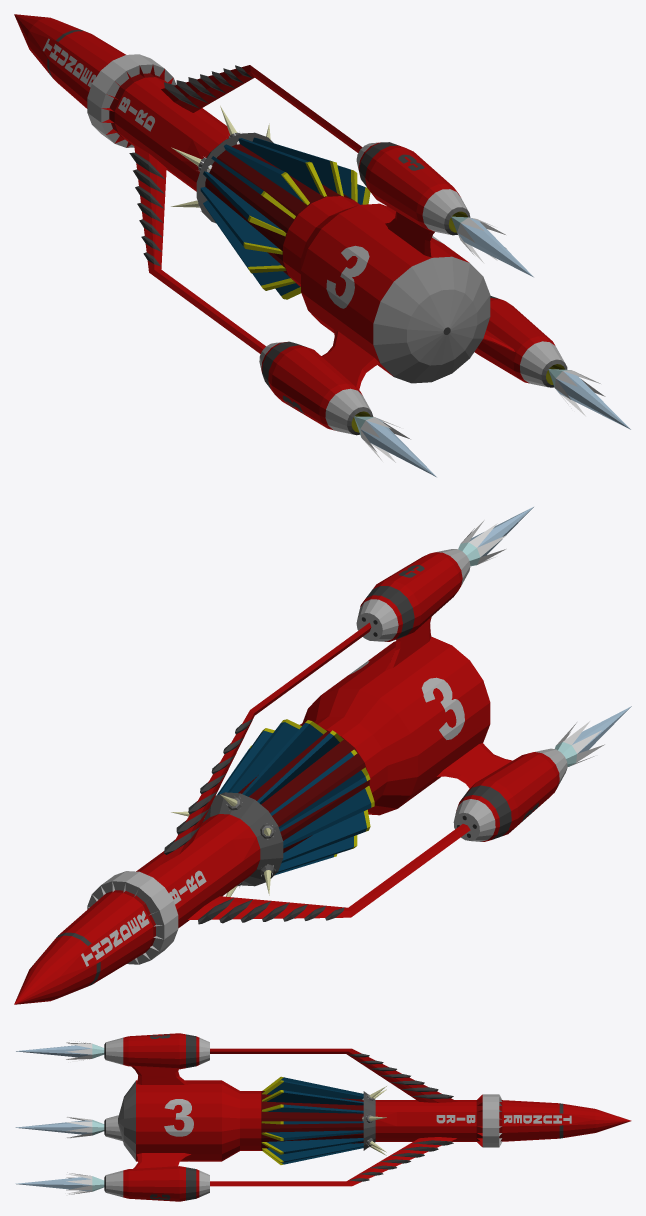
3 renders of one model, top to bottom at view 1: azimuth 30°, elevation 25°; view 2: azimuth 150°, elevation 25°; view 3: azimuth 270°, elevation 25°, orthographic. The views are drawn at different scales.
Visible parts, largest first — view 1: ShapeIndexedFaceSet_ShapeIndexedFaceSet.001, ShapeIndexedFaceSet.007_ShapeIndexedFaceSet.008, ShapeIndexedFaceSet.036_ShapeIndexedFaceSet.037, ShapeIndexedFaceSet.051_ShapeIndexedFaceSet.052, ShapeIndexedFaceSet.040_ShapeIndexedFaceSet.041, ShapeIndexedFaceSet.003_ShapeIndexedFaceSet.004, ShapeIndexedFaceSet.049_ShapeIndexedFaceSet.050, ShapeIndexedFaceSet.062_ShapeIndexedFaceSet.063, ShapeIndexedFaceSet.038_ShapeIndexedFaceSet.039, ShapeIndexedFaceSet.037_ShapeIndexedFaceSet.038, ShapeIndexedFaceSet.002_ShapeIndexedFaceSet.003, ShapeIndexedFaceSet.005_ShapeIndexedFaceSet.006 (+10 smaller); view 2: ShapeIndexedFaceSet_ShapeIndexedFaceSet.001, ShapeIndexedFaceSet.036_ShapeIndexedFaceSet.037, ShapeIndexedFaceSet.004_ShapeIndexedFaceSet.005, ShapeIndexedFaceSet.051_ShapeIndexedFaceSet.052, ShapeIndexedFaceSet.003_ShapeIndexedFaceSet.004, ShapeIndexedFaceSet.040_ShapeIndexedFaceSet.041, ShapeIndexedFaceSet.049_ShapeIndexedFaceSet.050, ShapeIndexedFaceSet.006_ShapeIndexedFaceSet.007, ShapeIndexedFaceSet.038_ShapeIndexedFaceSet.039, ShapeIndexedFaceSet.002_ShapeIndexedFaceSet.003, ShapeIndexedFaceSet.042_ShapeIndexedFaceSet.043, ShapeIndexedFaceSet.053_ShapeIndexedFaceSet.054 (+6 smaller); view 3: ShapeIndexedFaceSet_ShapeIndexedFaceSet.001, ShapeIndexedFaceSet.036_ShapeIndexedFaceSet.037, ShapeIndexedFaceSet.040_ShapeIndexedFaceSet.041, ShapeIndexedFaceSet.003_ShapeIndexedFaceSet.004, ShapeIndexedFaceSet.062_ShapeIndexedFaceSet.063, ShapeIndexedFaceSet.038_ShapeIndexedFaceSet.039, ShapeIndexedFaceSet.060_ShapeIndexedFaceSet.061, ShapeIndexedFaceSet.002_ShapeIndexedFaceSet.003, ShapeIndexedFaceSet.004_ShapeIndexedFaceSet.005, ShapeIndexedFaceSet.005_ShapeIndexedFaceSet.006, ShapeIndexedFaceSet.007_ShapeIndexedFaceSet.008, ShapeIndexedFaceSet.039_ShapeIndexedFaceSet.040 (+14 smaller).
Part boxes in pixels (bbox=[...]): ShapeIndexedFaceSet_ShapeIndexedFaceSet.001: bbox=[14, 14, 469, 376]; ShapeIndexedFaceSet.007_ShapeIndexedFaceSet.008: bbox=[373, 256, 490, 383]; ShapeIndexedFaceSet.036_ShapeIndexedFaceSet.037: bbox=[200, 137, 365, 295]; ShapeIndexedFaceSet.051_ShapeIndexedFaceSet.052: bbox=[261, 329, 379, 430]; ShapeIndexedFaceSet.040_ShapeIndexedFaceSet.041: bbox=[358, 142, 460, 257]; ShapeIndexedFaceSet.003_ShapeIndexedFaceSet.004: bbox=[205, 144, 352, 283]; ShapeIndexedFaceSet.049_ShapeIndexedFaceSet.050: bbox=[134, 144, 265, 353]; ShapeIndexedFaceSet.062_ShapeIndexedFaceSet.063: bbox=[474, 298, 555, 383]; ShapeIndexedFaceSet.038_ShapeIndexedFaceSet.039: bbox=[161, 65, 362, 152]; ShapeIndexedFaceSet.037_ShapeIndexedFaceSet.038: bbox=[243, 161, 370, 299]; ShapeIndexedFaceSet.002_ShapeIndexedFaceSet.003: bbox=[42, 38, 441, 308]; ShapeIndexedFaceSet.005_ShapeIndexedFaceSet.006: bbox=[87, 54, 164, 142]; ShapeIndexedFaceSet_ShapeIndexedFaceSet.001: bbox=[14, 636, 490, 1004]; ShapeIndexedFaceSet.036_ShapeIndexedFaceSet.037: bbox=[217, 722, 371, 875]; ShapeIndexedFaceSet.004_ShapeIndexedFaceSet.005: bbox=[301, 688, 417, 815]; ShapeIndexedFaceSet.051_ShapeIndexedFaceSet.052: bbox=[437, 743, 559, 841]; ShapeIndexedFaceSet.003_ShapeIndexedFaceSet.004: bbox=[238, 730, 369, 852]; ShapeIndexedFaceSet.040_ShapeIndexedFaceSet.041: bbox=[360, 552, 462, 670]; ShapeIndexedFaceSet.049_ShapeIndexedFaceSet.050: bbox=[188, 824, 470, 919]; ShapeIndexedFaceSet.006_ShapeIndexedFaceSet.007: bbox=[202, 792, 283, 886]; ShapeIndexedFaceSet.038_ShapeIndexedFaceSet.039: bbox=[161, 622, 371, 864]; ShapeIndexedFaceSet.002_ShapeIndexedFaceSet.003: bbox=[81, 661, 464, 966]; ShapeIndexedFaceSet.042_ShapeIndexedFaceSet.043: bbox=[356, 549, 470, 641]; ShapeIndexedFaceSet.053_ShapeIndexedFaceSet.054: bbox=[453, 748, 567, 841]; ShapeIndexedFaceSet_ShapeIndexedFaceSet.001: bbox=[136, 1080, 631, 1161]; ShapeIndexedFaceSet.036_ShapeIndexedFaceSet.037: bbox=[266, 1077, 363, 1164]; ShapeIndexedFaceSet.040_ShapeIndexedFaceSet.041: bbox=[123, 1033, 199, 1084]; ShapeIndexedFaceSet.003_ShapeIndexedFaceSet.004: bbox=[261, 1091, 363, 1150]; ShapeIndexedFaceSet.062_ShapeIndexedFaceSet.063: bbox=[123, 1153, 199, 1201]; ShapeIndexedFaceSet.038_ShapeIndexedFaceSet.039: bbox=[210, 1048, 457, 1102]; ShapeIndexedFaceSet.060_ShapeIndexedFaceSet.061: bbox=[210, 1137, 456, 1186]; ShapeIndexedFaceSet.002_ShapeIndexedFaceSet.003: bbox=[164, 1099, 571, 1161]; ShapeIndexedFaceSet.004_ShapeIndexedFaceSet.005: bbox=[222, 1080, 239, 1161]; ShapeIndexedFaceSet.005_ShapeIndexedFaceSet.006: bbox=[482, 1094, 499, 1147]; ShapeIndexedFaceSet.007_ShapeIndexedFaceSet.008: bbox=[118, 1081, 135, 1160]; ShapeIndexedFaceSet.039_ShapeIndexedFaceSet.040: bbox=[349, 1053, 453, 1098].
Bounding box in the file's own units: 280 × 251 × 1025.
